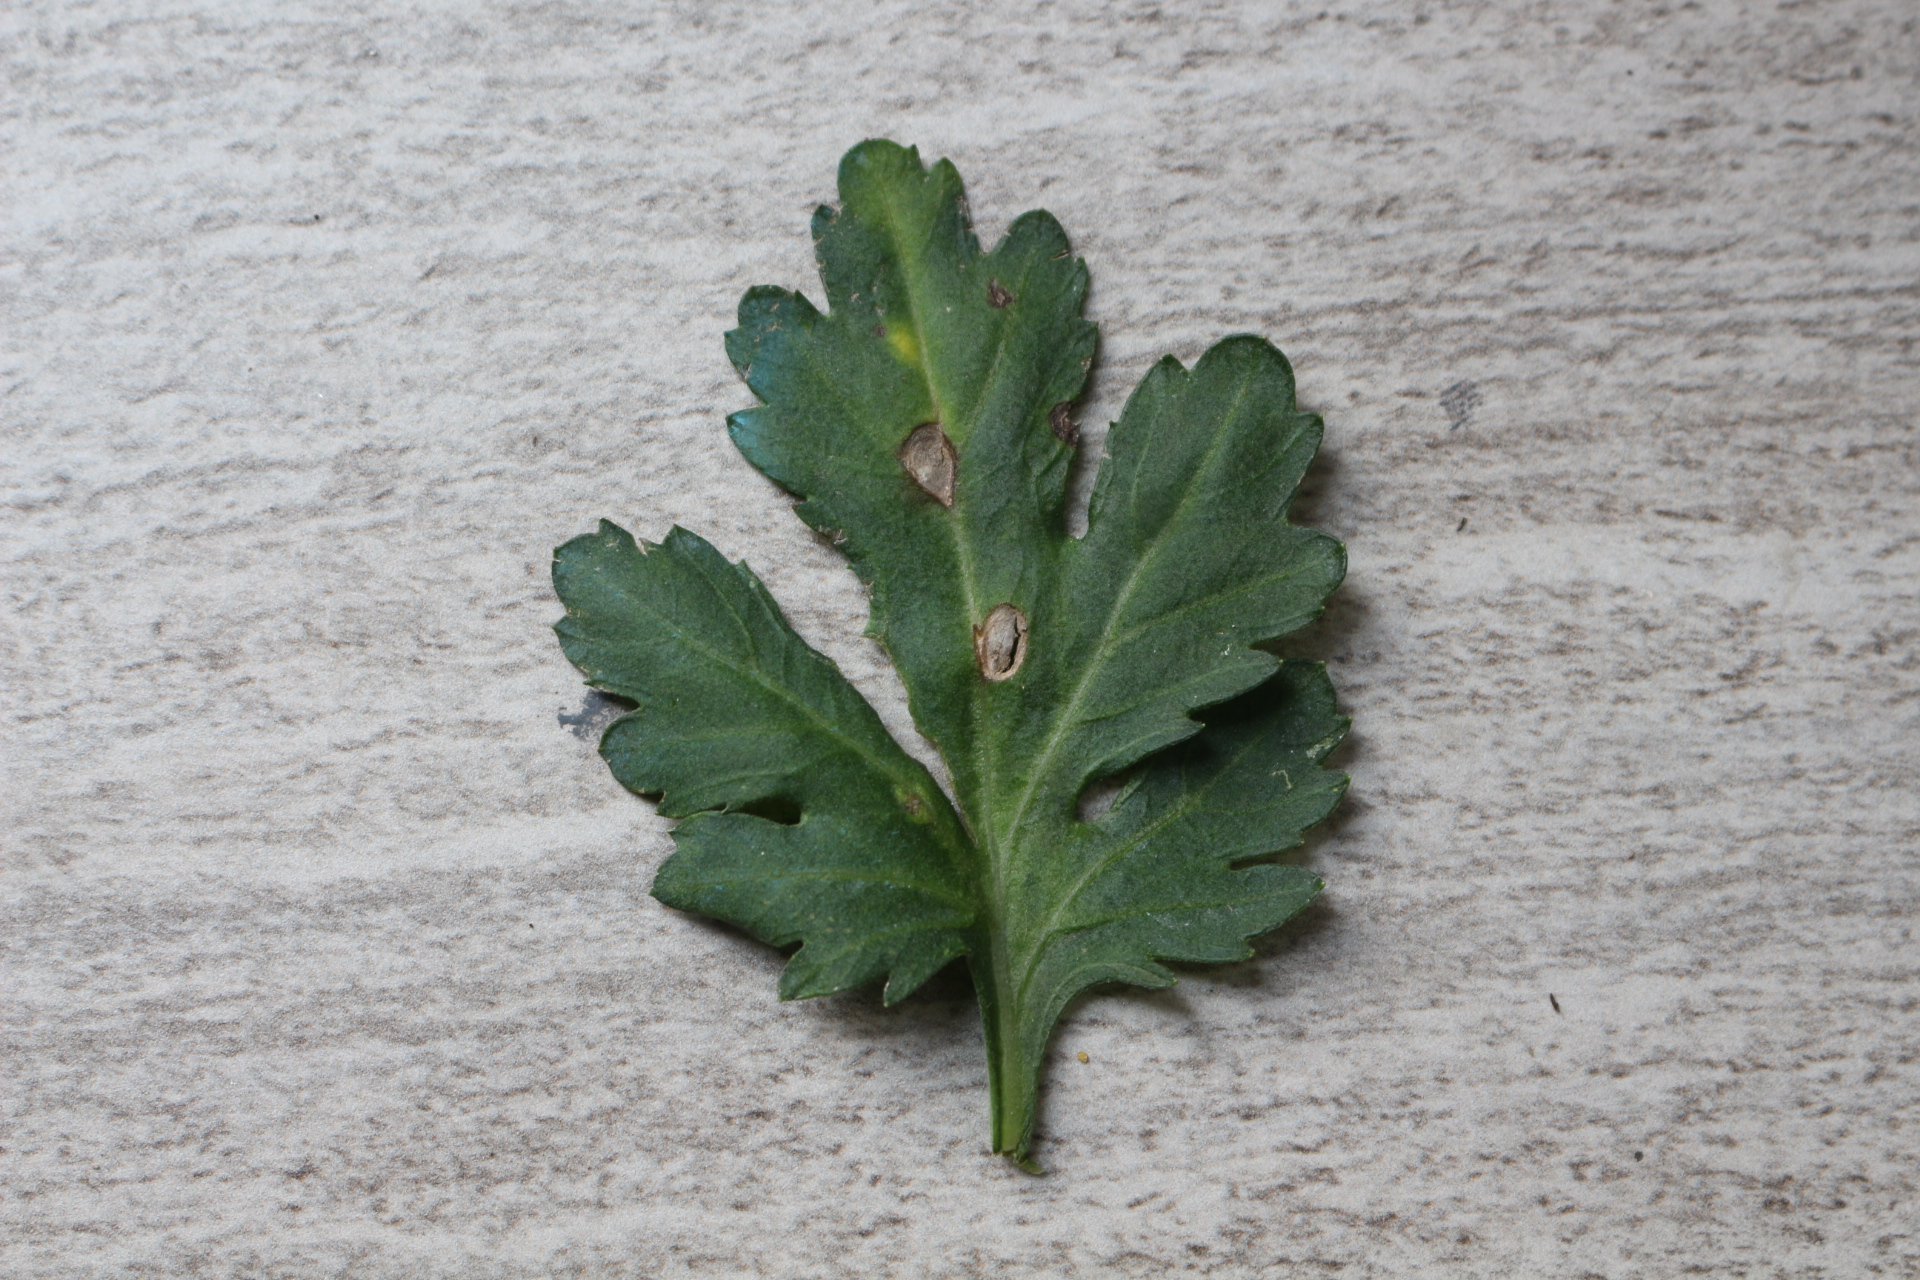namden: (897, 416, 969, 517), (969, 599, 1039, 691)
